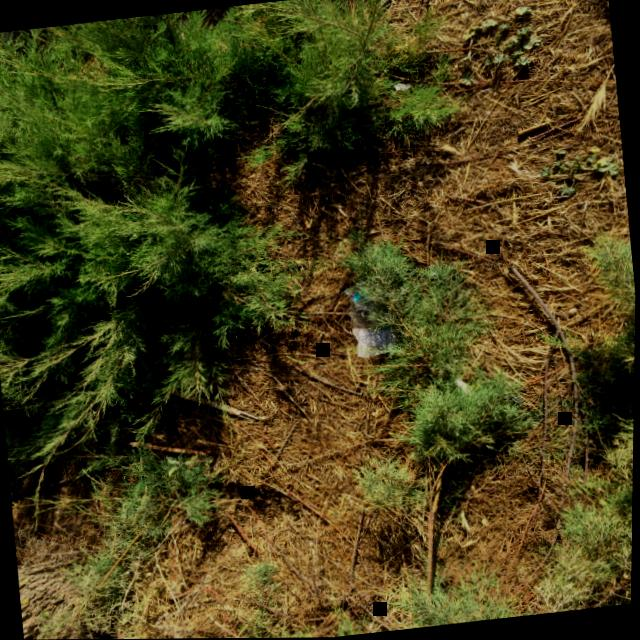Plastic film: (344, 289, 397, 358)
Unlabeled litter: (394, 83, 410, 91)
